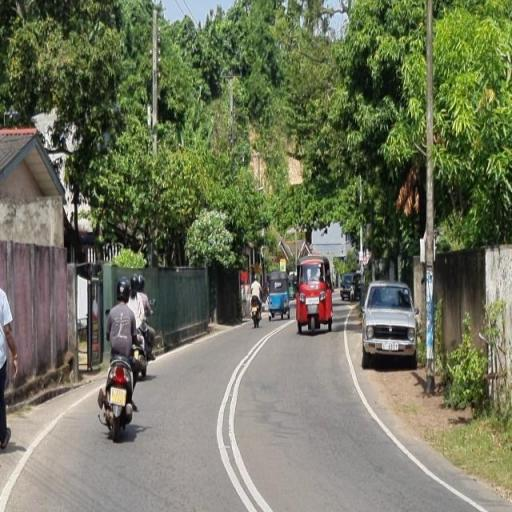double_white_line: (339, 316, 492, 510), (215, 319, 277, 512)
